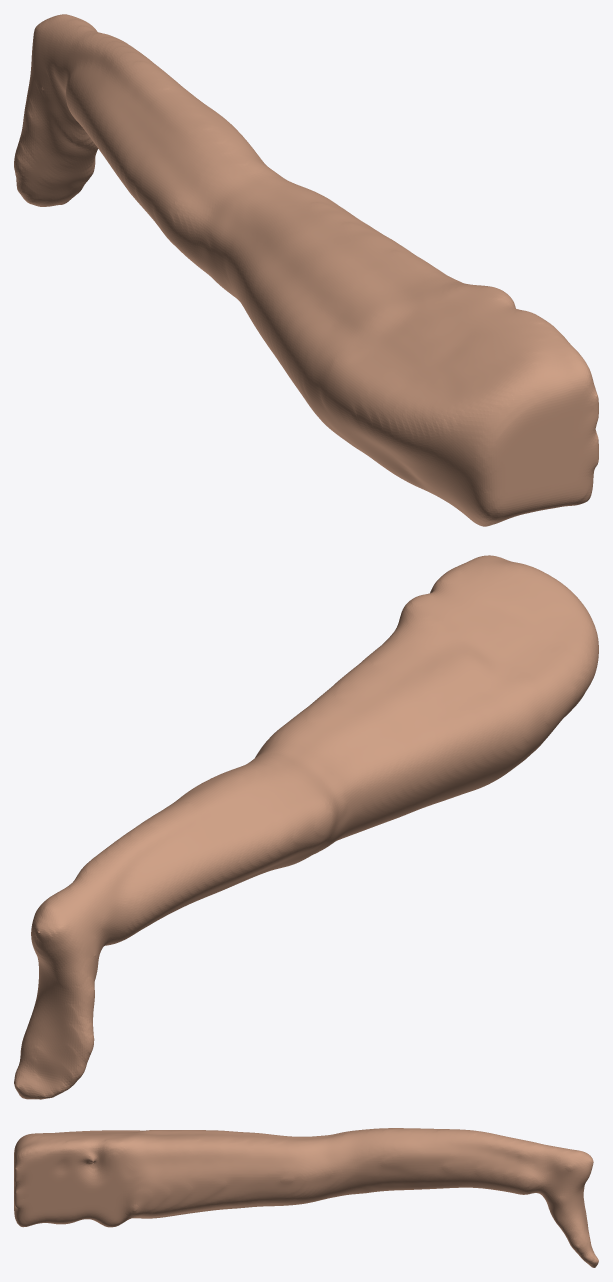
The model's file is lowerextremity_skin.glb.
3 renders of one model, top to bottom at view 1: azimuth 30°, elevation 25°; view 2: azimuth 150°, elevation 25°; view 3: azimuth 270°, elevation 25°, orthographic. The views are drawn at different scales.
Visible parts, largest first — view 1: world; view 2: world; view 3: world.
Boxes of the visible parts, x1,y1,x2,y2 form: world: [14, 14, 598, 526]; world: [14, 555, 598, 1099]; world: [14, 1128, 598, 1267].
Bounding box in the file's own units: 196 × 237 × 990.
